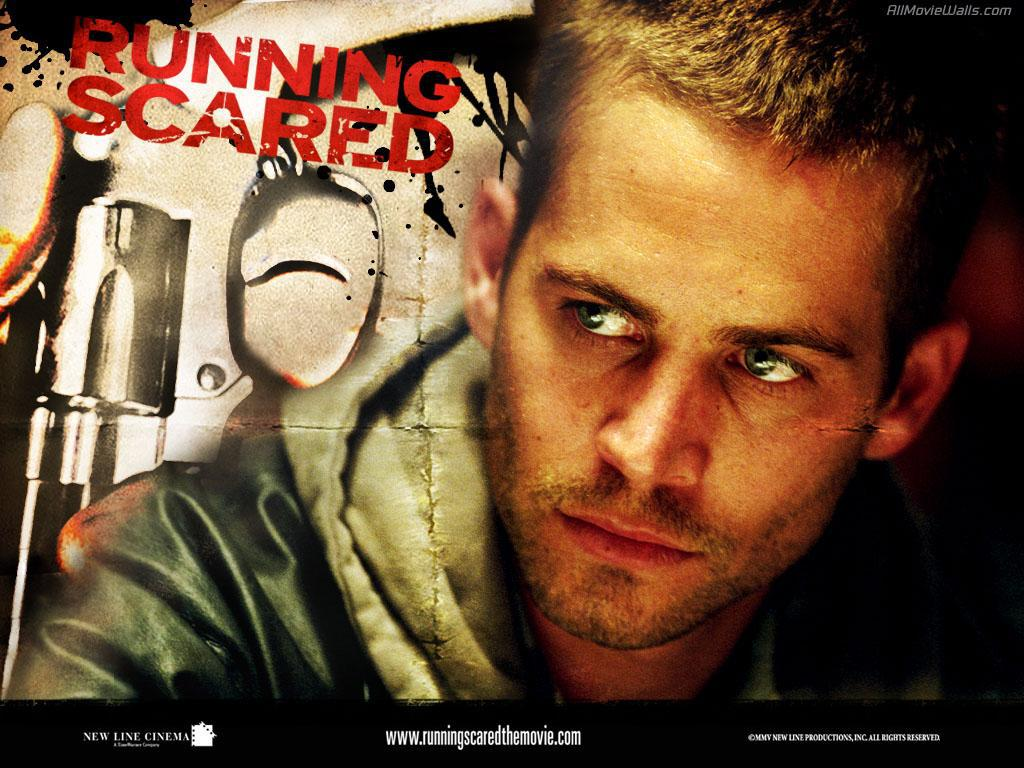face: (493, 111, 889, 649)
